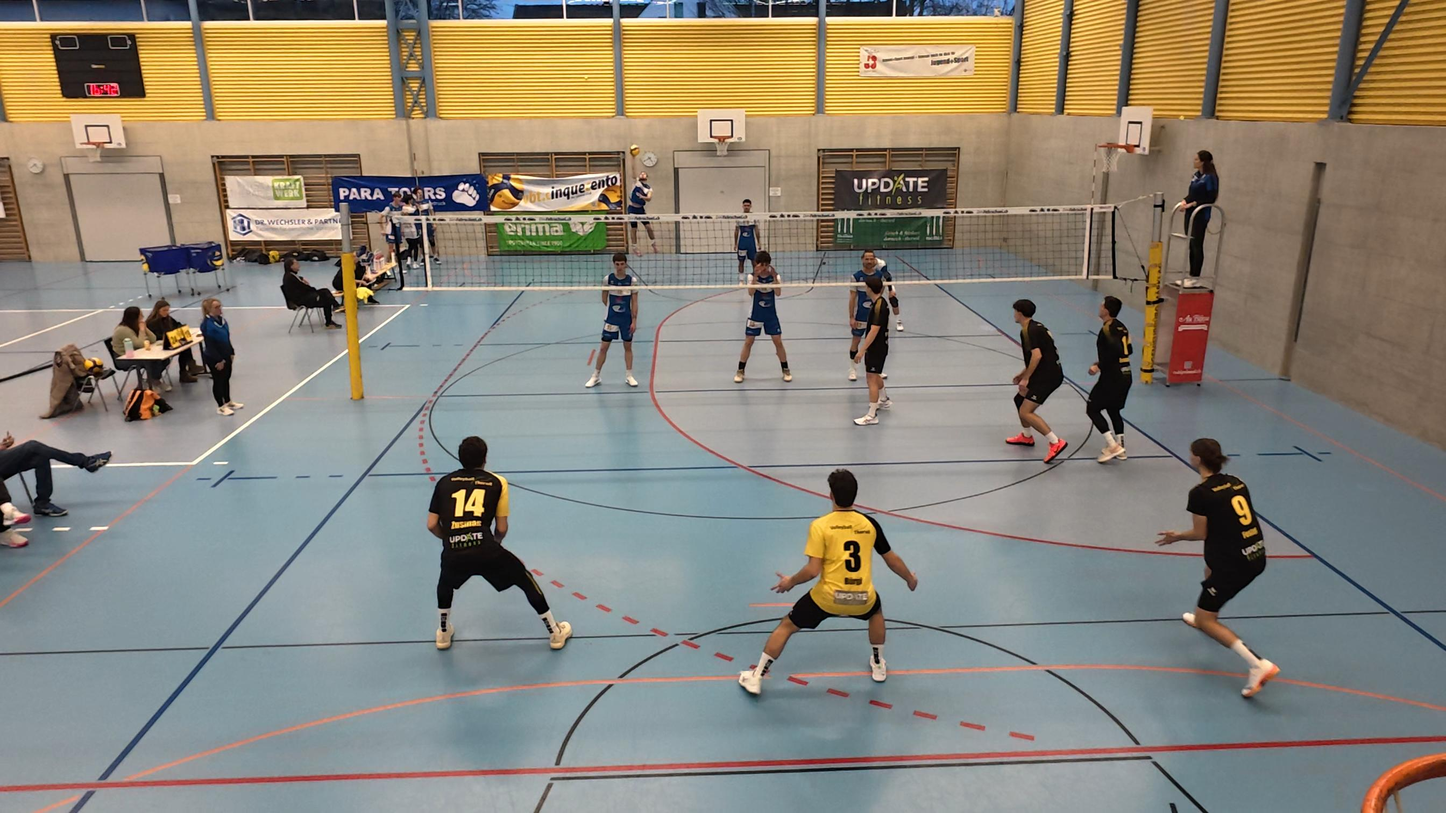battuta: (623, 140, 662, 257)
